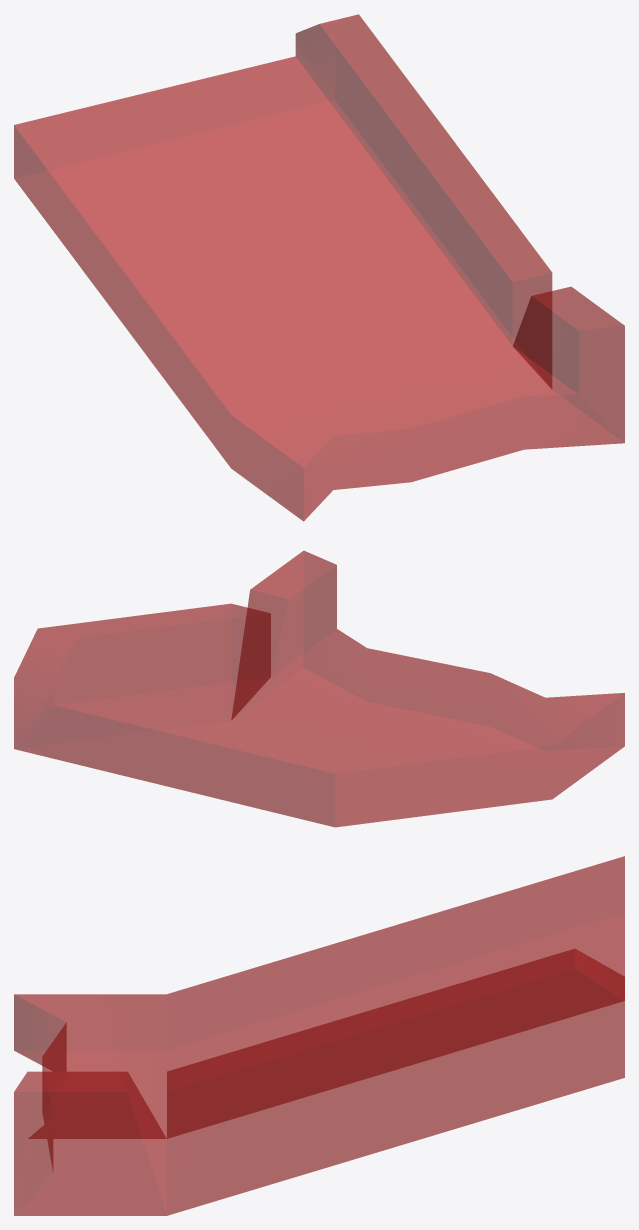
File: SM_Env_Motorway_Ramp_Edge_Destroyed_01_Collision.fbx
3 views of the same model, one above another, from view 1: azimuth 30°, elevation 25°; view 2: azimuth 150°, elevation 25°; view 3: azimuth 270°, elevation 25° (orthographic). The views are drawn at different scales.
Visible parts, largest first — view 1: SM_Env_Motorway_Ramp_Edge_Destroyed_01_Collision; view 2: SM_Env_Motorway_Ramp_Edge_Destroyed_01_Collision; view 3: SM_Env_Motorway_Ramp_Edge_Destroyed_01_Collision.
Part boxes in pixels (box(x1,y1,x2,y2)): SM_Env_Motorway_Ramp_Edge_Destroyed_01_Collision: box(14, 14, 624, 521); SM_Env_Motorway_Ramp_Edge_Destroyed_01_Collision: box(14, 551, 624, 827); SM_Env_Motorway_Ramp_Edge_Destroyed_01_Collision: box(14, 856, 624, 1215).
Size of the model in its own units: 640 by 446 by 1000.
